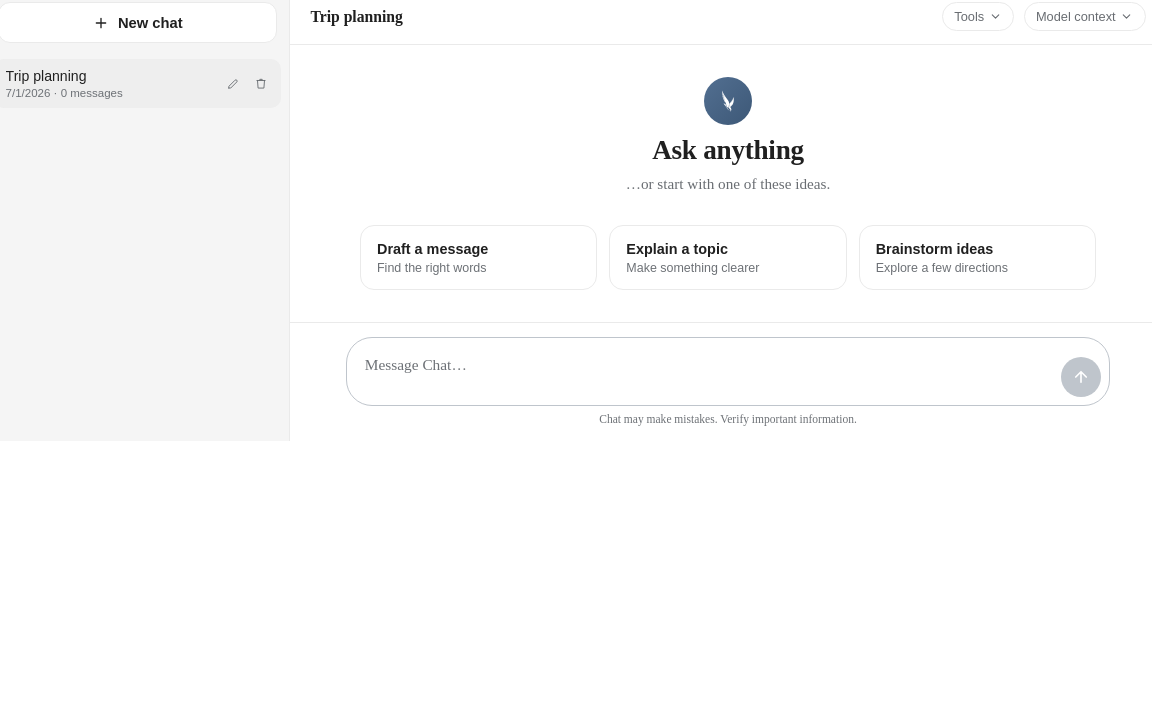
it: ChatSurface prompt context › ignores an older prompt preview that resolves after the current thread
This screenshot has width=1152, height=714.
Click the button "Model context".
click(1085, 16)  # box [1024,2,1146,31]
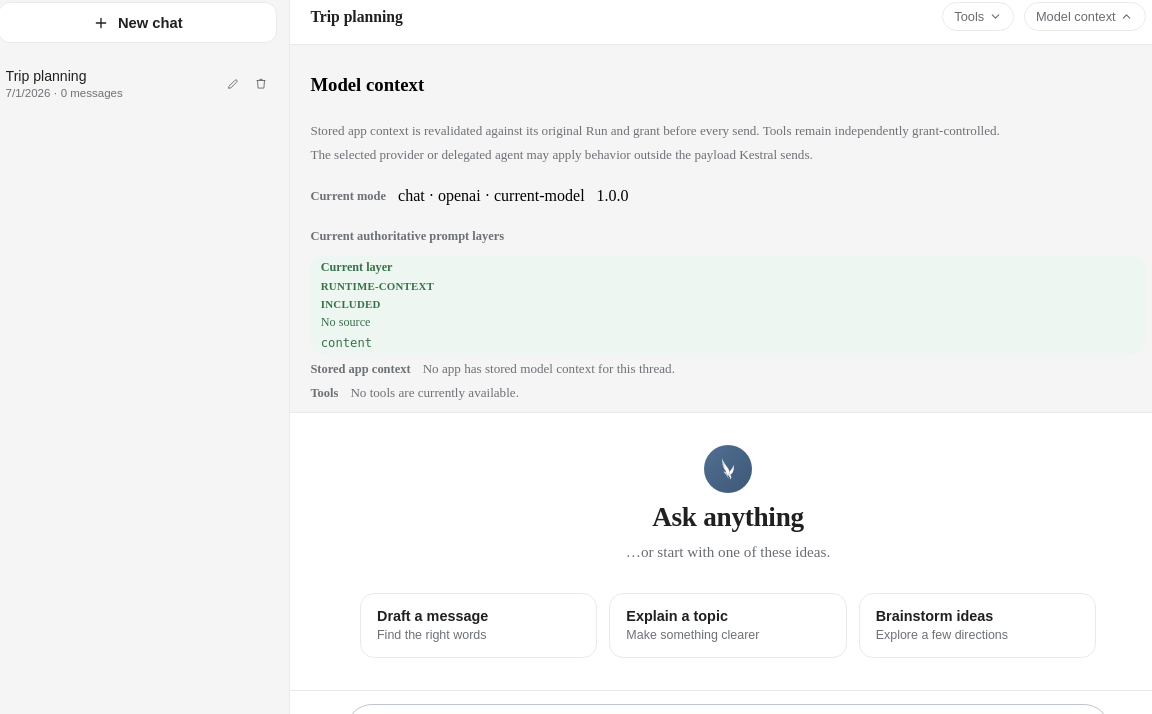
Expected: the text "Current layer" is shown, [321,260,392,274]
